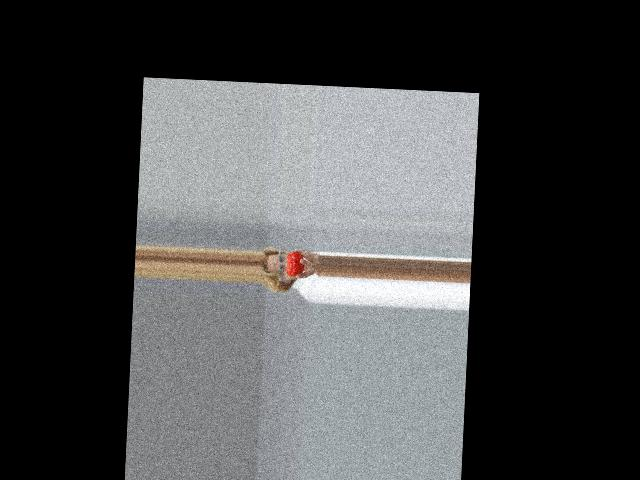tomato: (286, 251, 304, 278)
